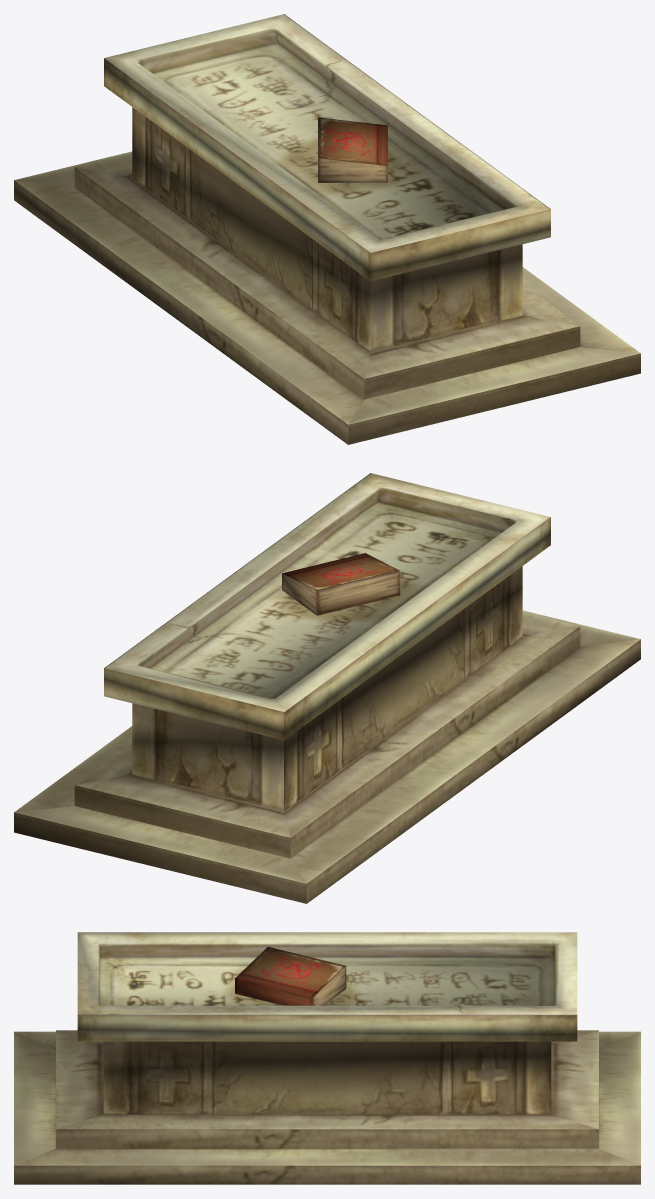
File: a_SWFaltar01.glb
The picture shows the model from 3 angles, top to bottom: view 1: azimuth 30°, elevation 25°; view 2: azimuth 150°, elevation 25°; view 3: azimuth 270°, elevation 25°; orthographic projection. The views are drawn at different scales.
Parts seen in each view (by area): view 1: a_SWFaltar01; view 2: a_SWFaltar01; view 3: a_SWFaltar01.
Part boxes in pixels (x1,y1,x2,y2): a_SWFaltar01: (14,14,640,444); a_SWFaltar01: (14,473,640,903); a_SWFaltar01: (14,932,640,1184).
Size of the model in its own units: 1.91 by 1.01 by 3.78.
1 material, 1 textured.
